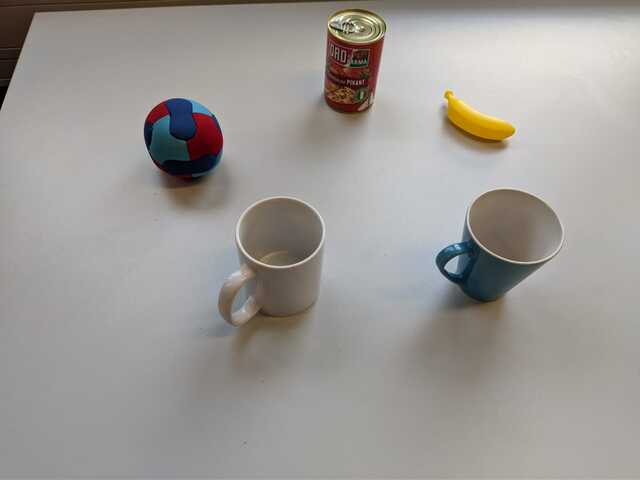005_tomato_soup_can: (324, 6, 389, 118)
011_banana: (438, 86, 519, 147)
025_mug: (433, 183, 566, 309), (215, 195, 329, 335)
057_racquetball: (141, 92, 231, 183)
